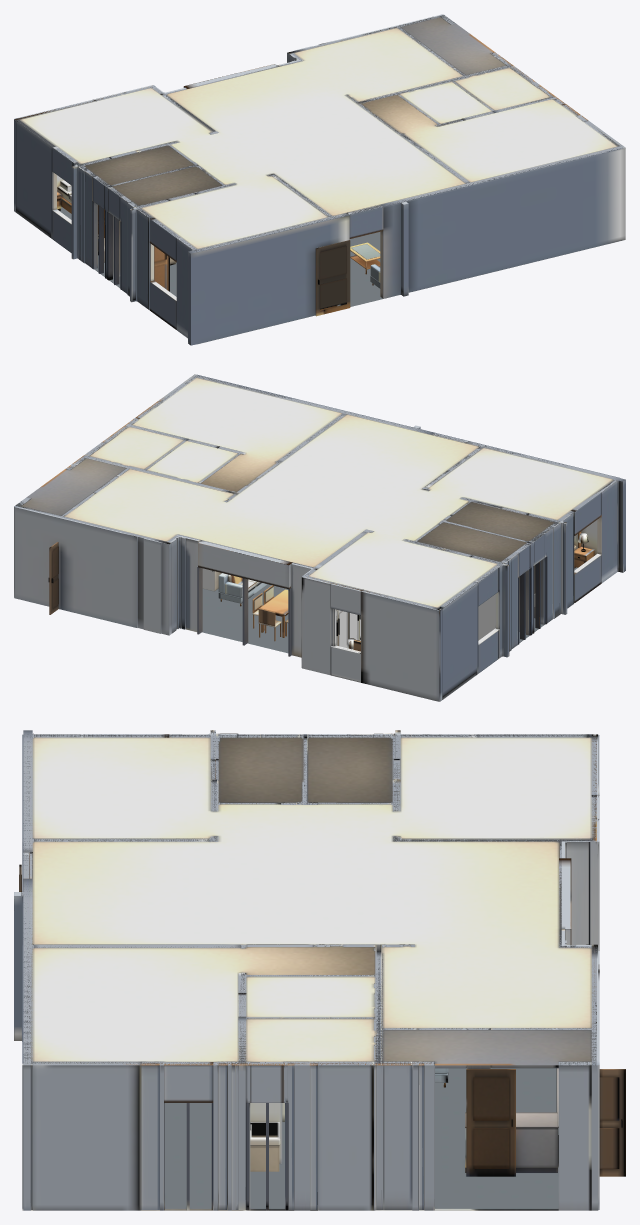
File: flat01.glb
3 renders of one model, top to bottom at view 1: azimuth 30°, elevation 25°; view 2: azimuth 150°, elevation 25°; view 3: azimuth 270°, elevation 25°, orthographic. The views are drawn at different scales.
Visible parts, largest first — view 1: Ceiling; view 2: Ceiling; view 3: Ceiling.
Part boxes in pixels (left/top/right/bottom): Ceiling: left=14, top=14, right=625, bottom=345; Ceiling: left=14, top=374, right=625, bottom=701; Ceiling: left=14, top=730, right=625, bottom=1210.
Bounding box in the file's own units: 14.11 × 2.85 × 10.89.
1 material, 1 textured.
